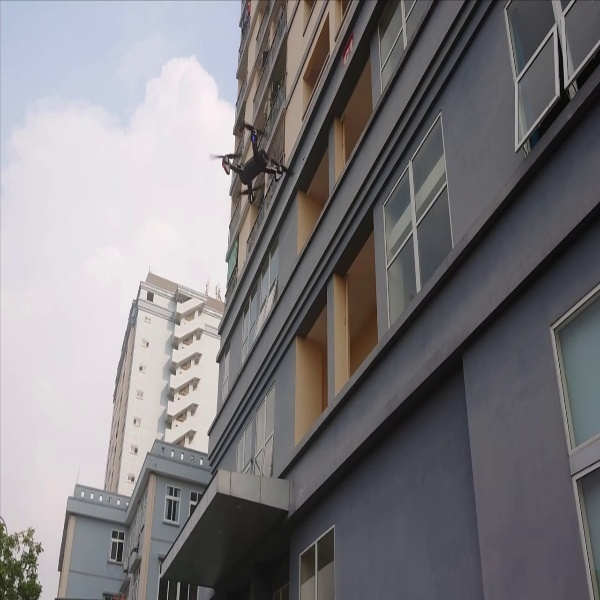drone: (206, 110, 297, 203)
